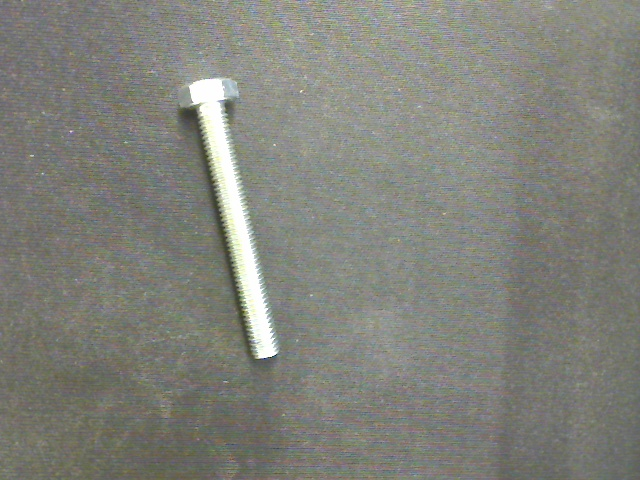Screw: (176, 77, 281, 359)
